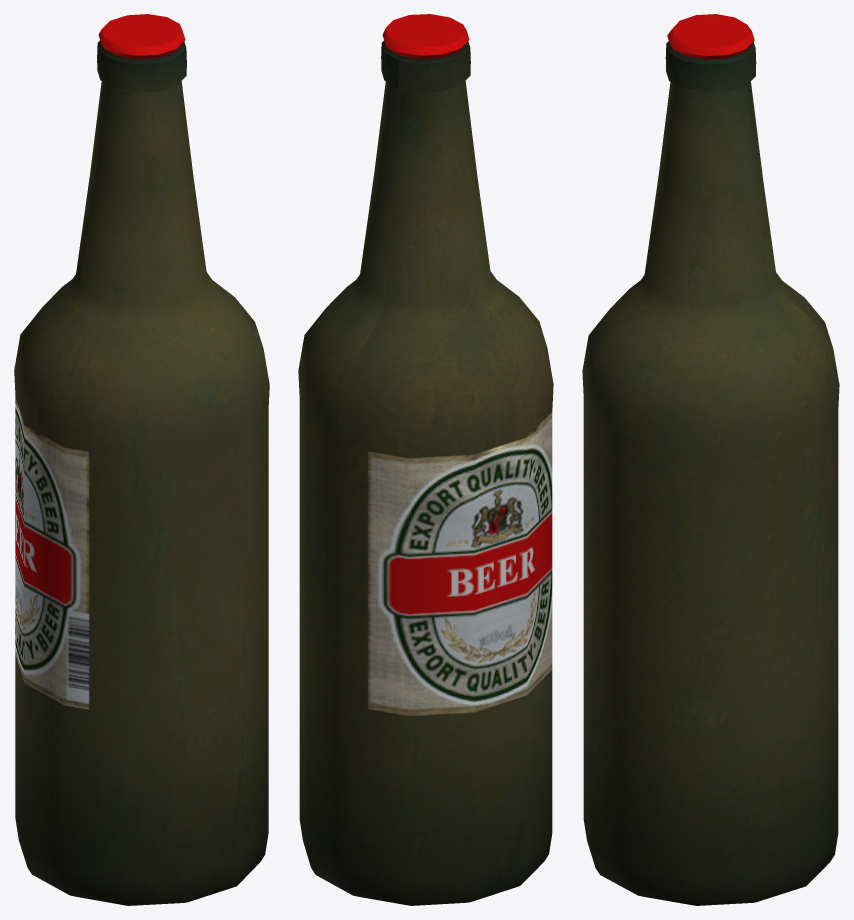
Rendered from Beer 4.FBX.
The picture shows the model from 3 angles, left to right: view 1: azimuth 30°, elevation 25°; view 2: azimuth 150°, elevation 25°; view 3: azimuth 270°, elevation 25°; orthographic projection.
Parts seen in each view (by area): view 1: Beer 4; view 2: Beer 4; view 3: Beer 4.
Boxes of the visible parts, left/top/right/bottom form: Beer 4: left=14, top=14, right=269, bottom=905; Beer 4: left=298, top=14, right=553, bottom=905; Beer 4: left=582, top=14, right=839, bottom=905.
Bounding box in the file's own units: 5.92 × 21.24 × 5.97.
Materials: 1 (1 with a texture image).
